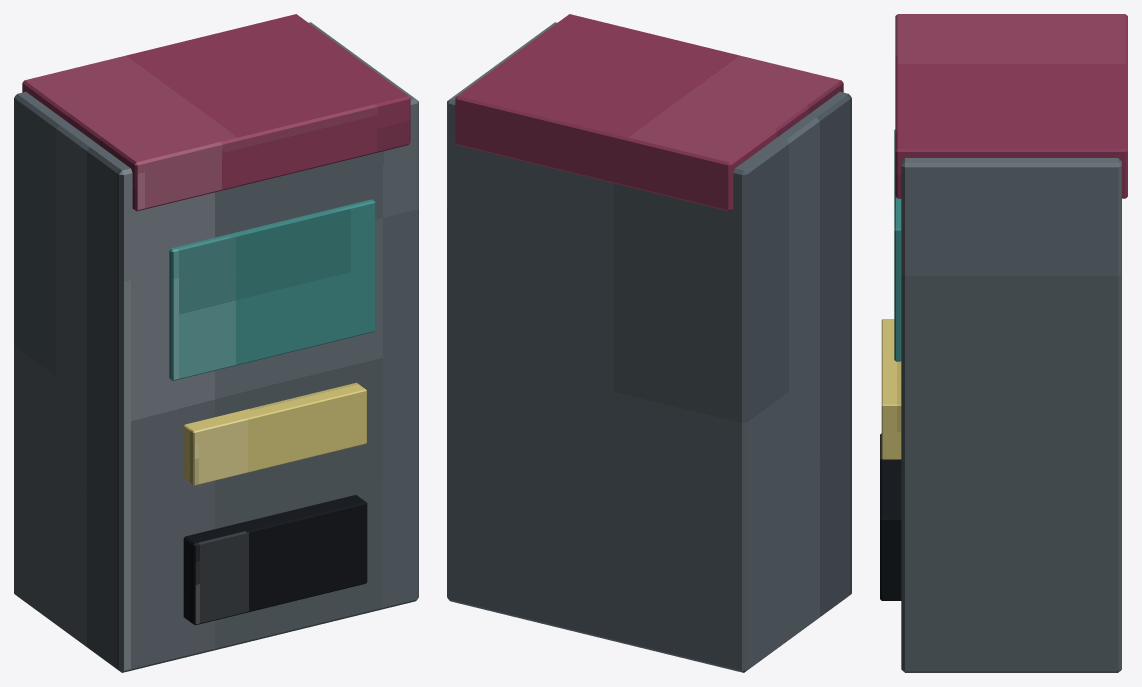
The model's file is snack_kiosk.glb.
3 renders of one model, left to right at view 1: azimuth 30°, elevation 25°; view 2: azimuth 150°, elevation 25°; view 3: azimuth 270°, elevation 25°, orthographic.
Visible parts, largest first — view 1: MachineBody, Header, Display, CollectionBin, Control; view 2: MachineBody, Header; view 3: MachineBody, Header, CollectionBin, Control, Display.
Part boxes in pixels (x1=…): MachineBody: x1=14, y1=22, x2=418, y2=672; Header: x1=22, y1=14, x2=410, y2=211; Display: x1=169, y1=199, x2=375, y2=380; CollectionBin: x1=183, y1=495, x2=367, y2=625; Control: x1=183, y1=382, x2=366, y2=485; MachineBody: x1=447, y1=22, x2=851, y2=672; Header: x1=455, y1=14, x2=843, y2=211; MachineBody: x1=901, y1=158, x2=1121, y2=672; Header: x1=895, y1=14, x2=1127, y2=198; CollectionBin: x1=880, y1=433, x2=901, y2=600; Control: x1=881, y1=319, x2=901, y2=459; Display: x1=894, y1=129, x2=901, y2=361.
Size of the model in its own units: 1.15 by 1.87 by 0.81.
Materials: 1 (1 with a texture image).
